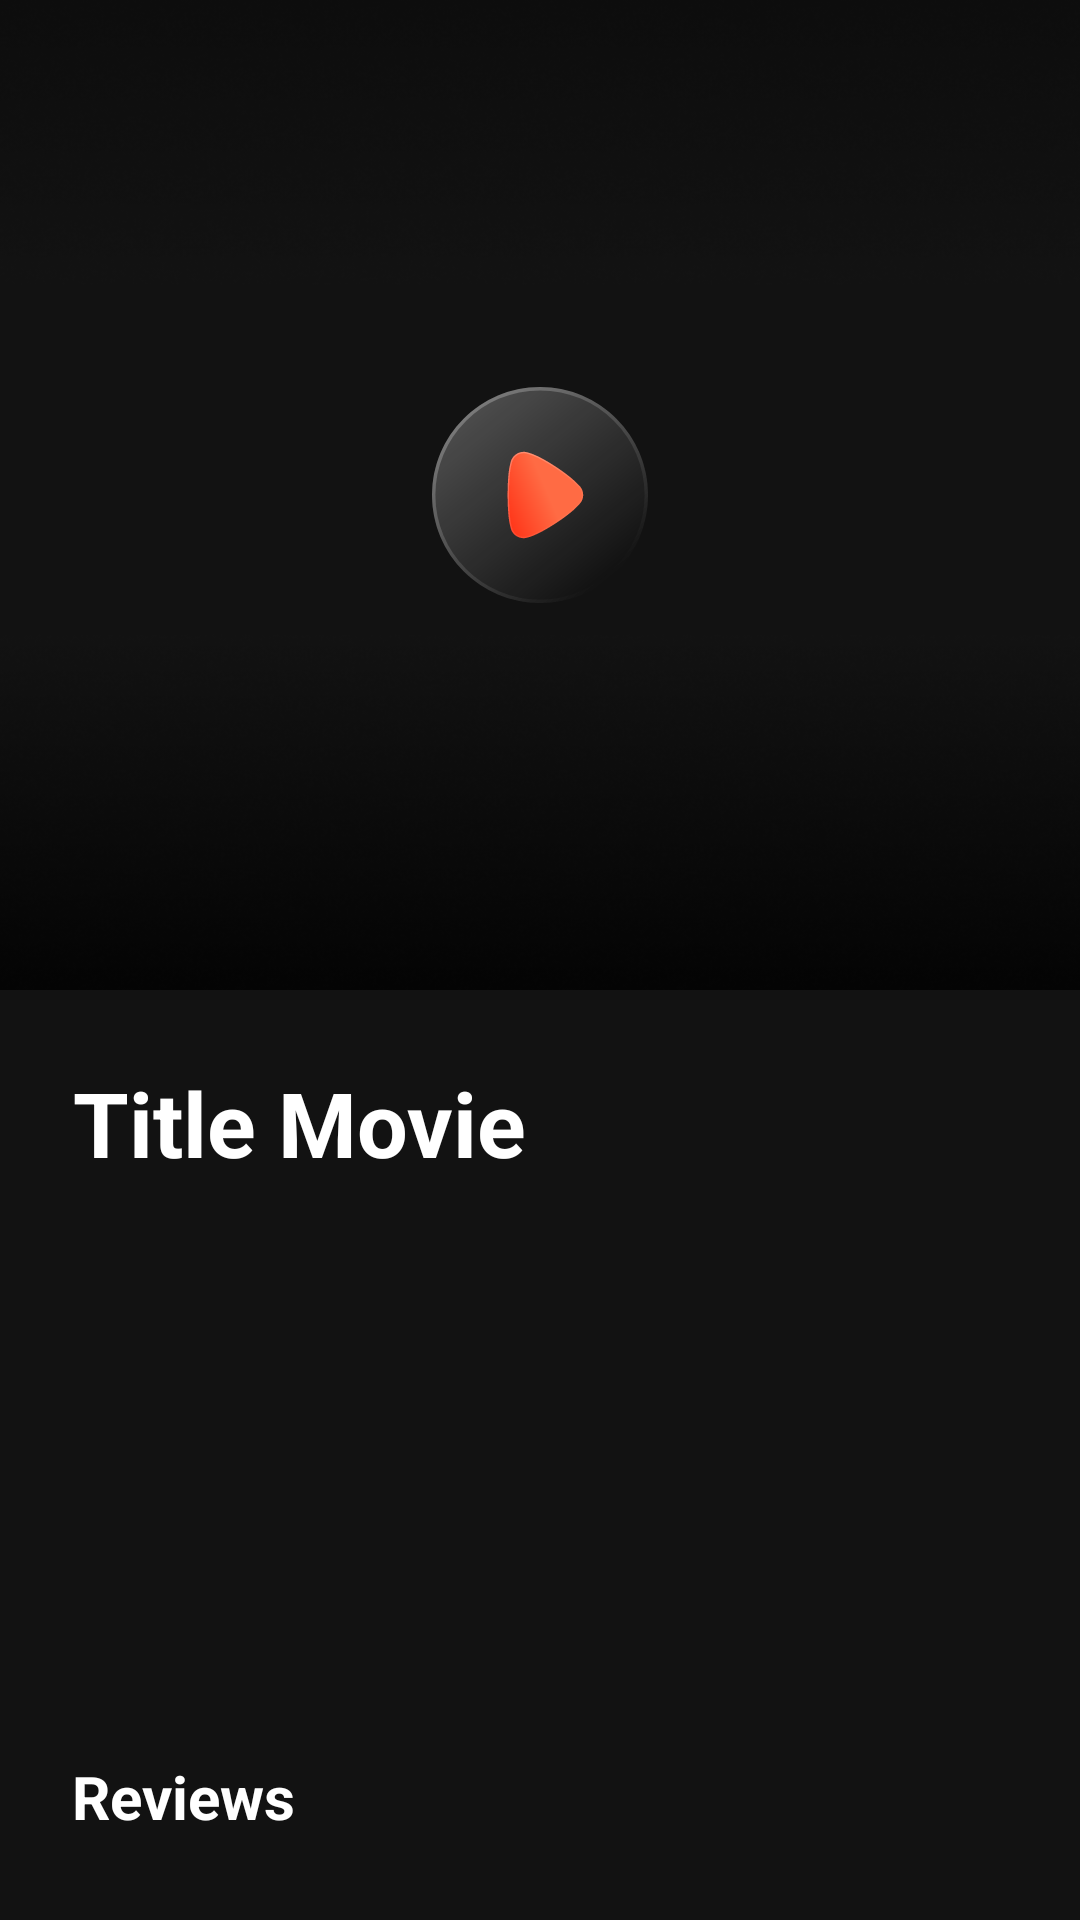

Named icons in this screenshot (1080 x 1920) and their centers, point (x, y):
play: point (539, 492)
